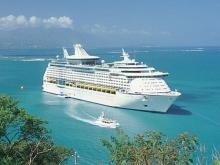youlun: (43, 43, 182, 118)
